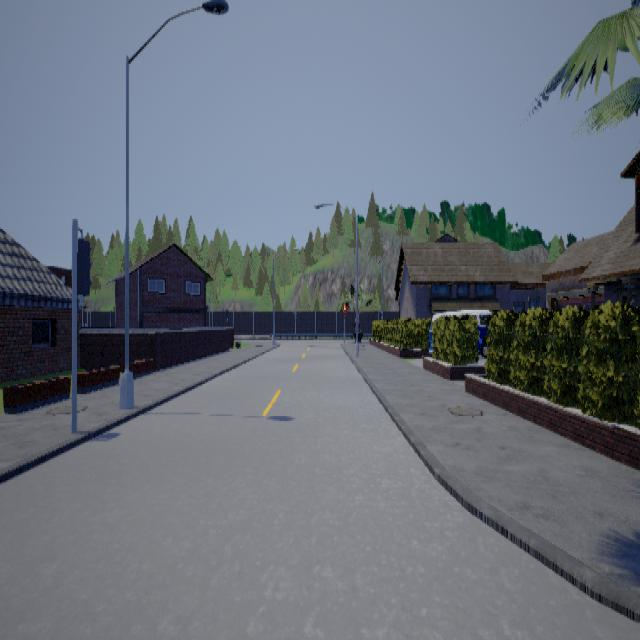vehicle: (428, 308, 491, 357)
